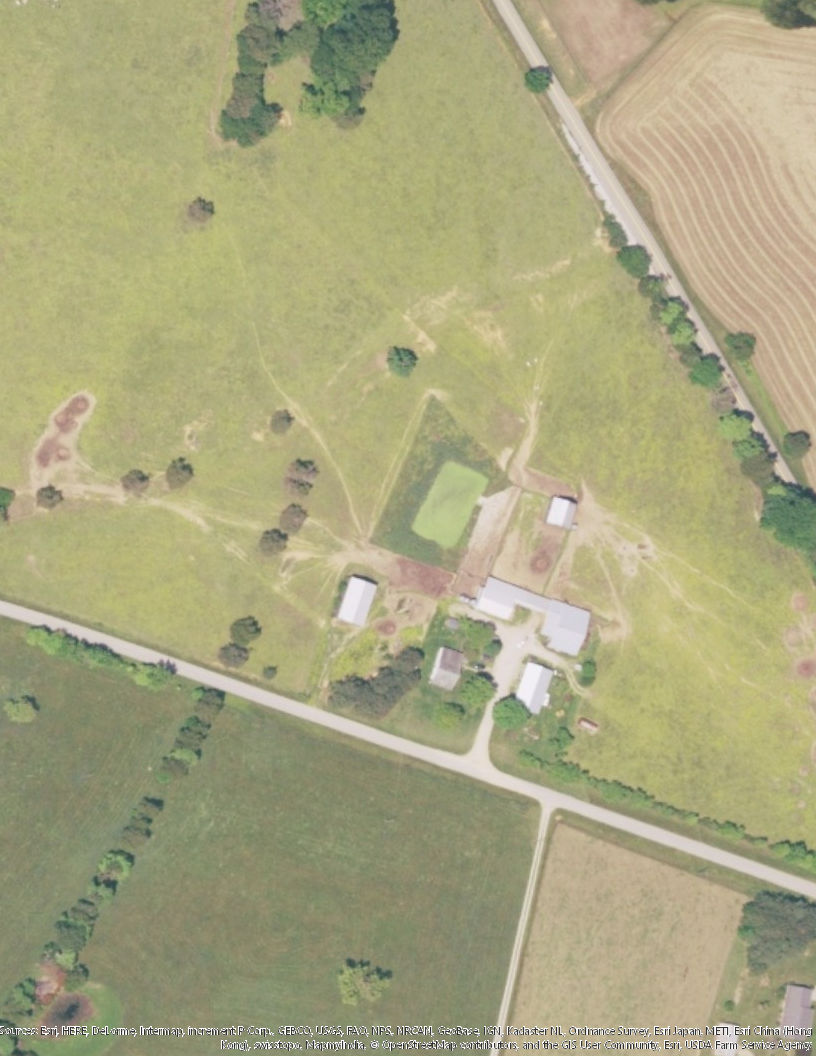cafo: (471, 569, 595, 659), (509, 661, 557, 713)
